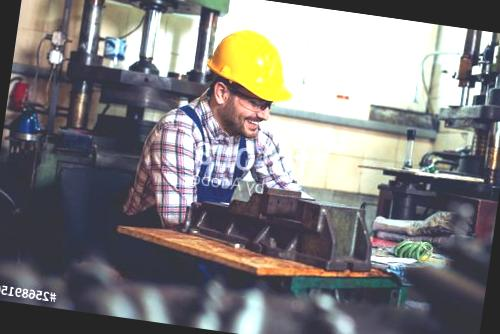helmet: (202, 27, 305, 107)
no_vest: (127, 112, 290, 242)
person: (126, 14, 312, 242)
